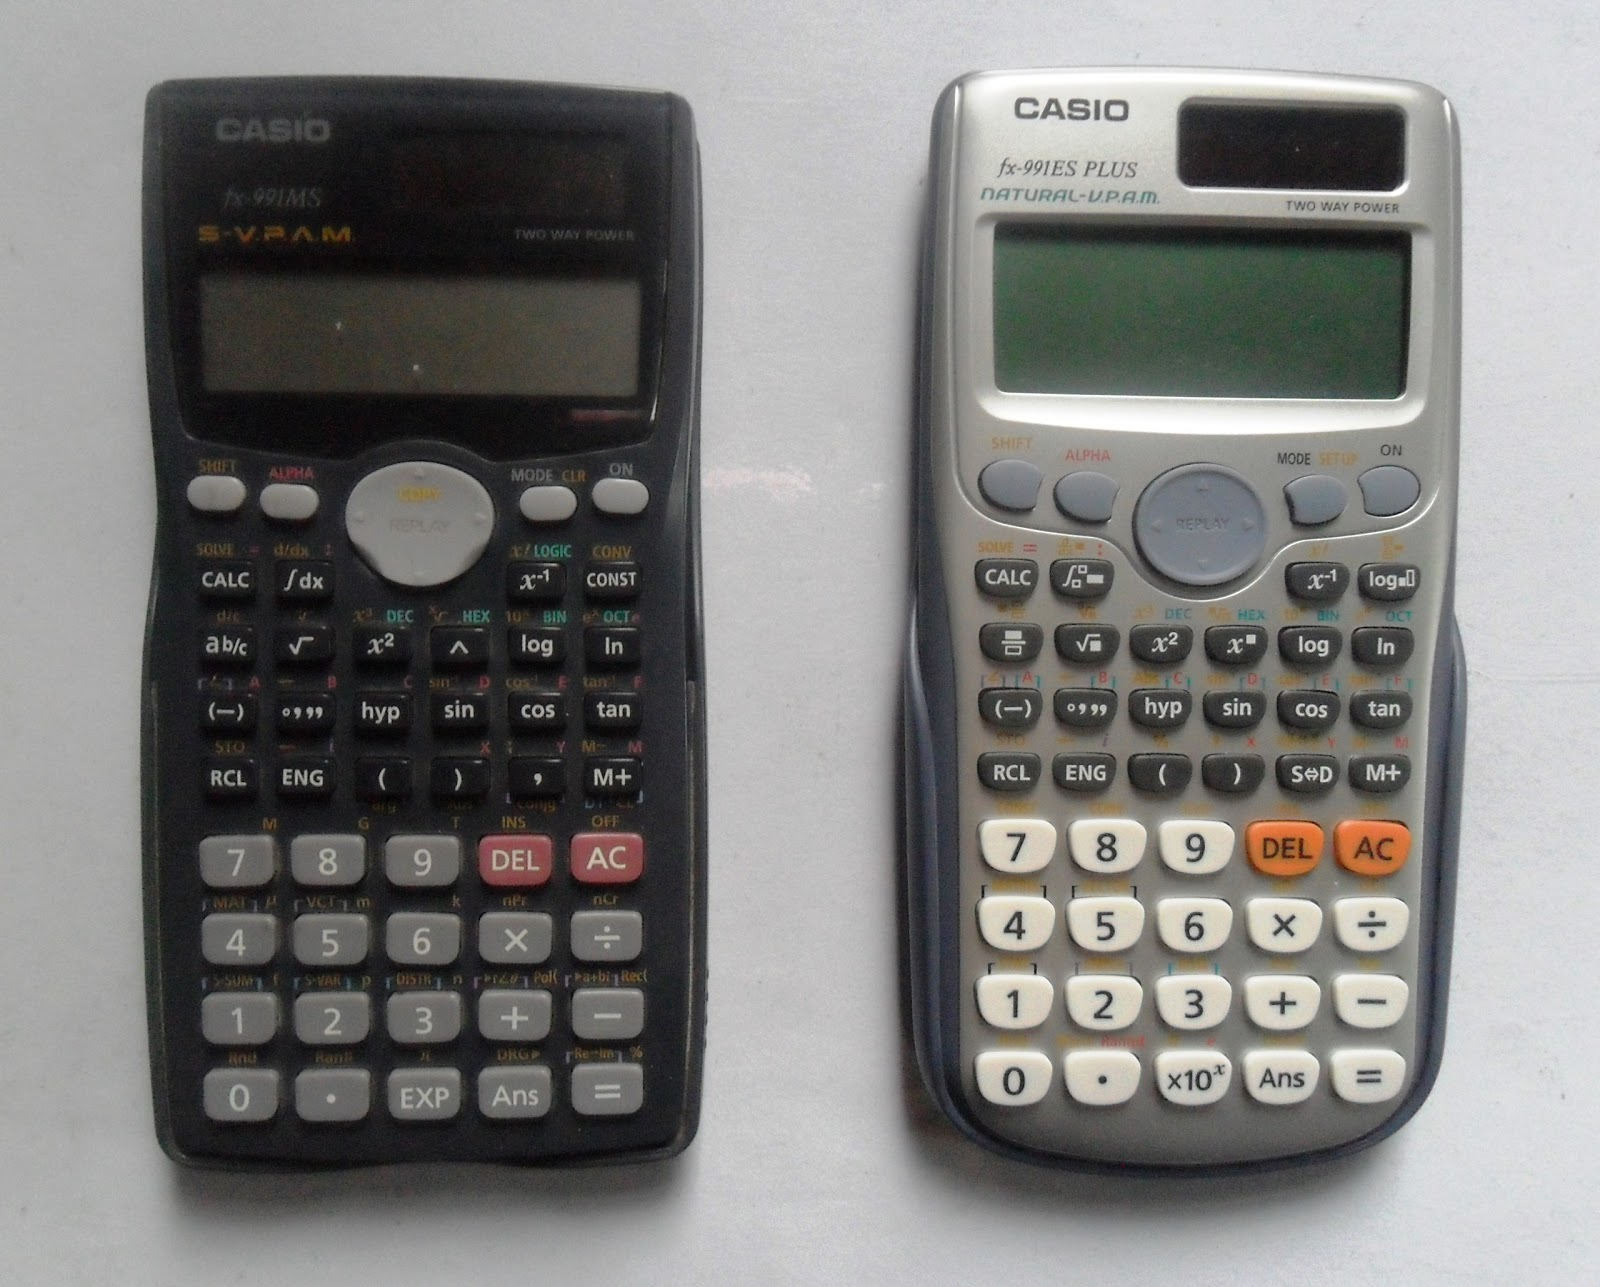Calculator: (123, 63, 730, 1183), (891, 59, 1469, 1192)
